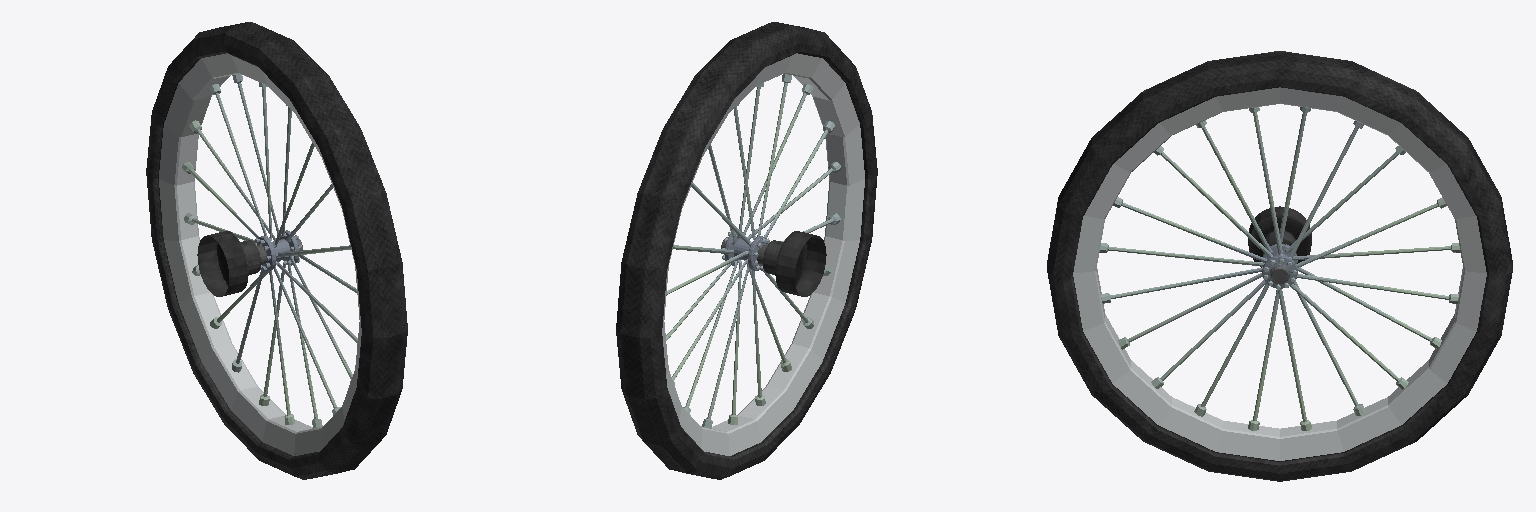
The picture shows the model from 3 angles: view 1: azimuth 30°, elevation 25°; view 2: azimuth 150°, elevation 25°; view 3: azimuth 270°, elevation 25°; orthographic projection.
Parts seen in each view (by area): view 1: RuedaIzq; view 2: RuedaIzq; view 3: RuedaIzq.
Part boxes in pixels (x1,y1,x2,y2): RuedaIzq: (146,22,407,479); RuedaIzq: (616,22,877,479); RuedaIzq: (1047,51,1512,481).
Bounding box in the file's own units: 5.05 × 23.88 × 23.88.
Materials: 1 (1 with a texture image).